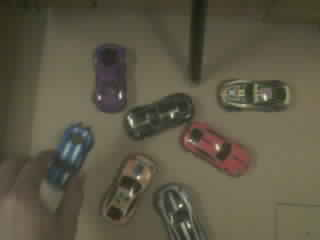Car: (181, 122, 248, 175), (103, 154, 154, 223), (125, 93, 194, 139), (154, 184, 206, 239), (49, 124, 92, 186), (219, 80, 289, 110), (95, 44, 126, 111), (120, 192, 134, 217)
